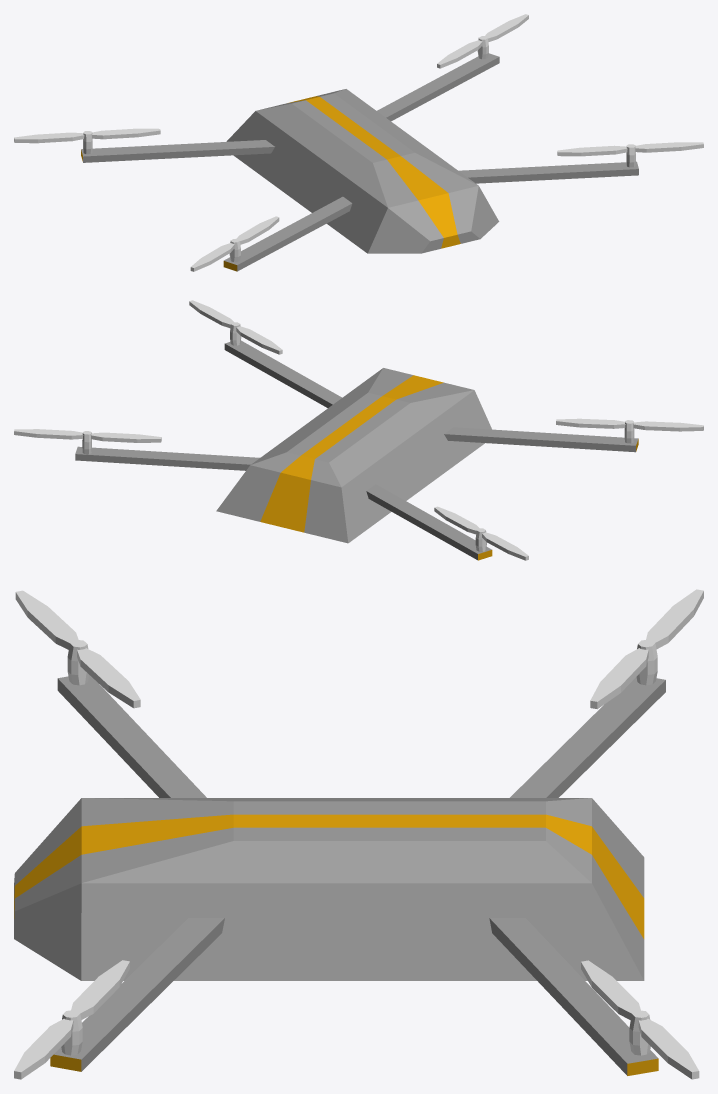
The model's file is Drone.fbx.
The picture shows the model from 3 angles, top to bottom: view 1: azimuth 30°, elevation 25°; view 2: azimuth 150°, elevation 25°; view 3: azimuth 270°, elevation 25°; orthographic projection. The views are drawn at different scales.
Visible parts, largest first — view 1: Cube.004, Cube.020, Cube.018, Cube.019, Cube.012; view 2: Cube.004, Cube.012, Cube.019, Cube.018, Cube.020; view 3: Cube.004, Cube.012, Cube.019, Cube.020, Cube.018.
Part boxes in pixels (x1,y1,x2,y2): Cube.004: (81,46,638,271); Cube.020: (557,142,703,156); Cube.018: (14,128,160,143); Cube.019: (437,14,528,68); Cube.012: (190,216,279,271); Cube.004: (75,332,638,560); Cube.012: (556,418,703,431); Cube.019: (14,429,161,442); Cube.018: (434,506,528,560); Cube.020: (189,300,282,354); Cube.004: (14,657,665,1075); Cube.012: (15,590,140,708); Cube.019: (581,960,699,1079); Cube.020: (14,960,129,1079); Cube.018: (590,589,703,709).
Bounding box in the file's own units: 1131 × 107 × 683.
